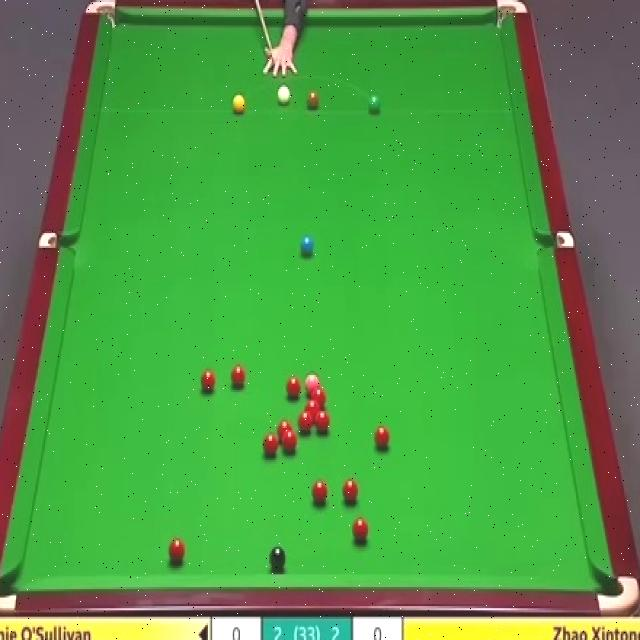black-ball: (269, 543, 286, 572)
blue-ball: (298, 234, 314, 259)
brown-ball: (306, 92, 319, 110)
green-ball: (368, 94, 381, 114)
pink-ball: (305, 373, 321, 391)
red-ball: (168, 538, 187, 565), (351, 517, 369, 545), (286, 374, 302, 402), (374, 426, 392, 450), (312, 481, 329, 504), (342, 479, 358, 503), (230, 364, 245, 389), (200, 368, 215, 392), (282, 430, 298, 452), (296, 412, 314, 431), (315, 411, 331, 432), (264, 433, 278, 455), (276, 418, 292, 436), (303, 399, 322, 413), (310, 388, 329, 401)
white-ball: (276, 85, 292, 106)
yellow-ball: (232, 92, 246, 115)
